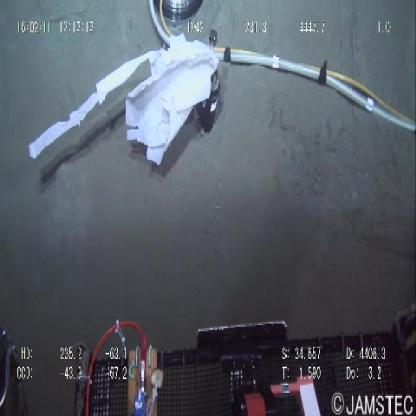Rov: (71, 310, 416, 414)
Rác: (25, 32, 225, 176)
